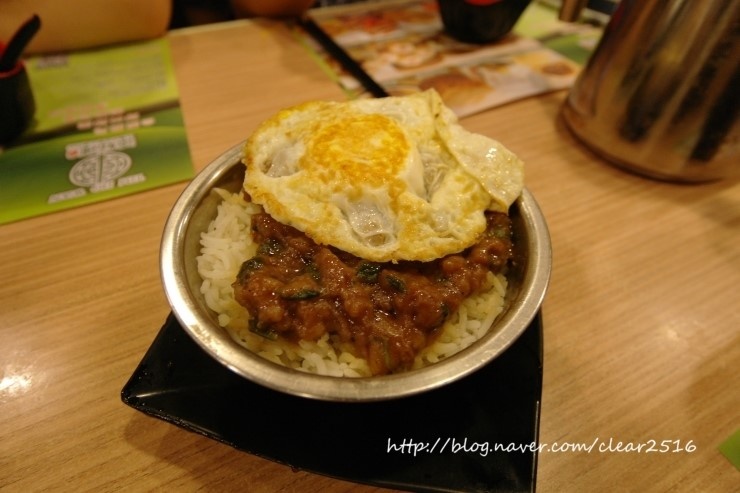fried egg: (249, 92, 511, 250)
plain rice: (190, 171, 508, 377)
